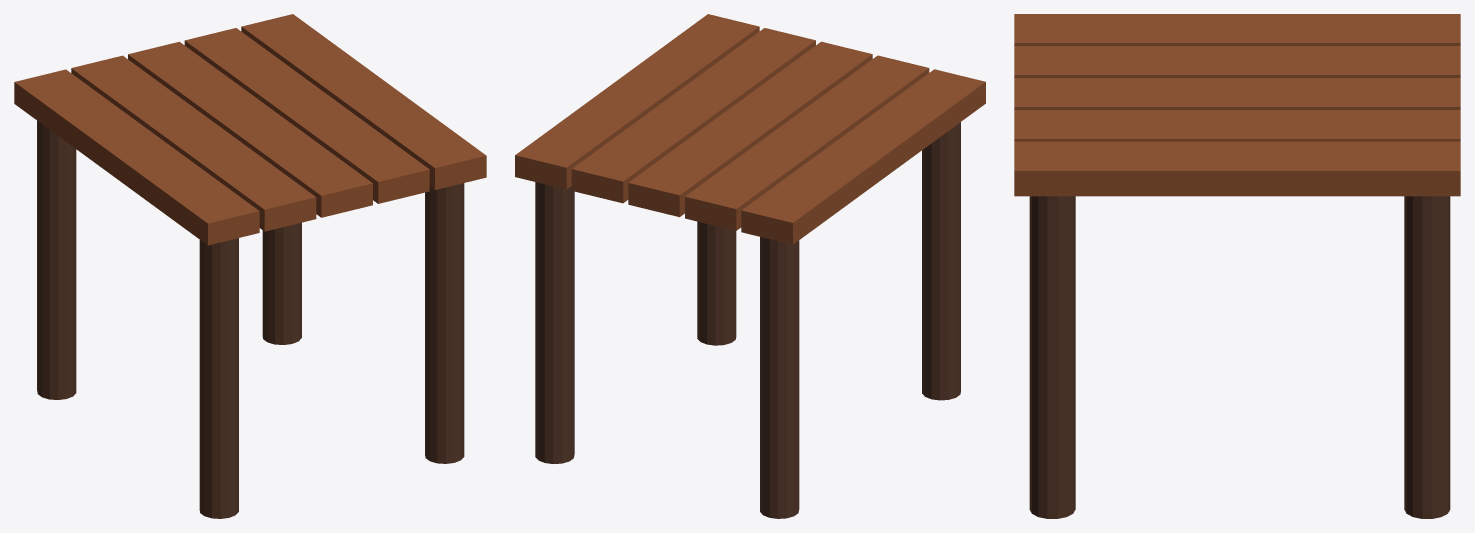
The model's file is ParkYeri.fbx.
3 renders of one model, left to right at view 1: azimuth 30°, elevation 25°; view 2: azimuth 150°, elevation 25°; view 3: azimuth 270°, elevation 25°, orthographic. The views are drawn at different scales.
Visible parts, largest first — view 1: Cube.003, Kolon.029, Kolon.031, Kolon.030, Kolon.032; view 2: Cube.003, Kolon.030, Kolon.032, Kolon.029, Kolon.031; view 3: Cube.003, Kolon.031, Kolon.032.
Part boxes in pixels (x1,y1,x2,y2): Cube.003: (14,14,486,245); Kolon.029: (199,238,238,518); Kolon.031: (425,183,464,463); Kolon.030: (37,120,76,399); Kolon.032: (262,222,301,344); Cube.003: (515,14,985,244); Kolon.030: (760,237,799,518); Kolon.032: (535,182,574,463); Kolon.029: (922,122,960,400); Kolon.031: (697,221,736,345); Cube.003: (1014,14,1460,196); Kolon.031: (1029,196,1075,518); Kolon.032: (1404,196,1450,518).
Bounding box in the file's own units: 402 × 422 × 484.
